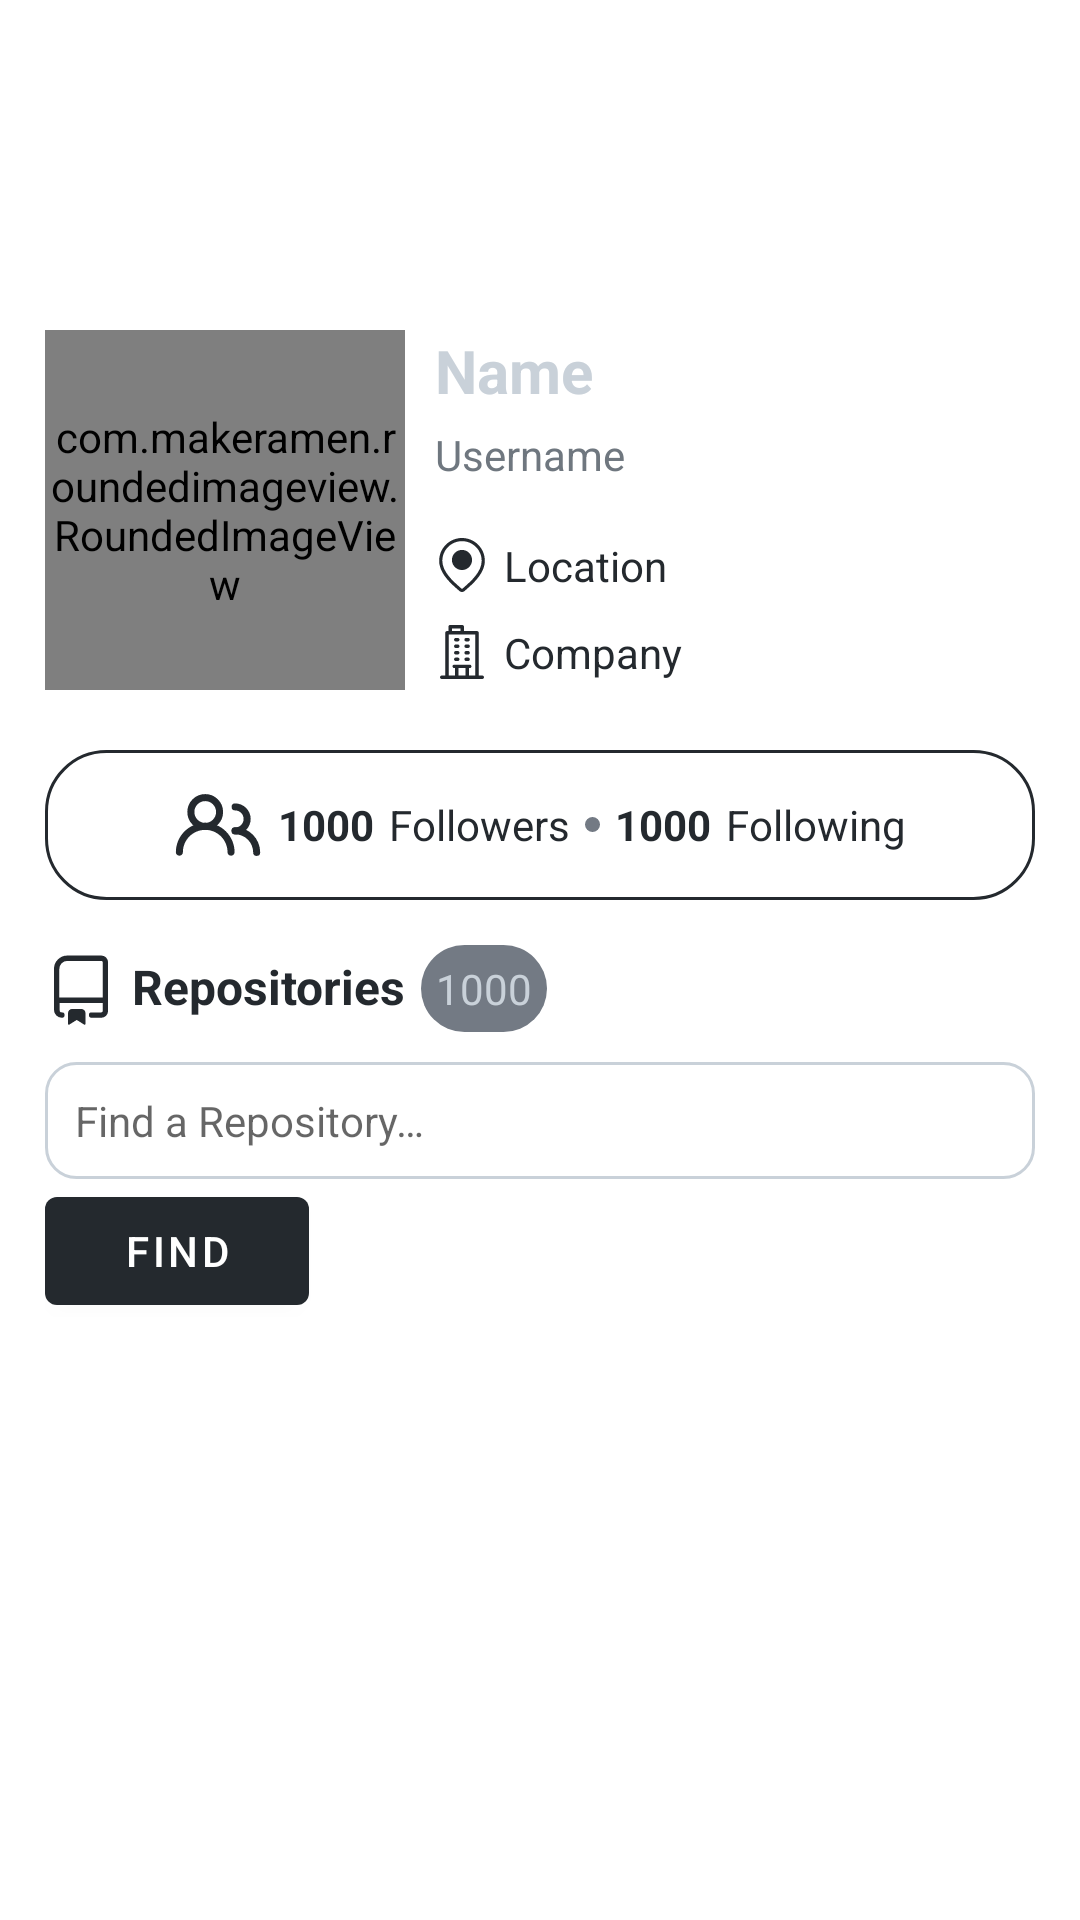

Locate icon controls on the screen. Image size 1080 × 1920, boxes as (x1, y1, x2, y2).
icon users: (176, 794, 261, 856)
